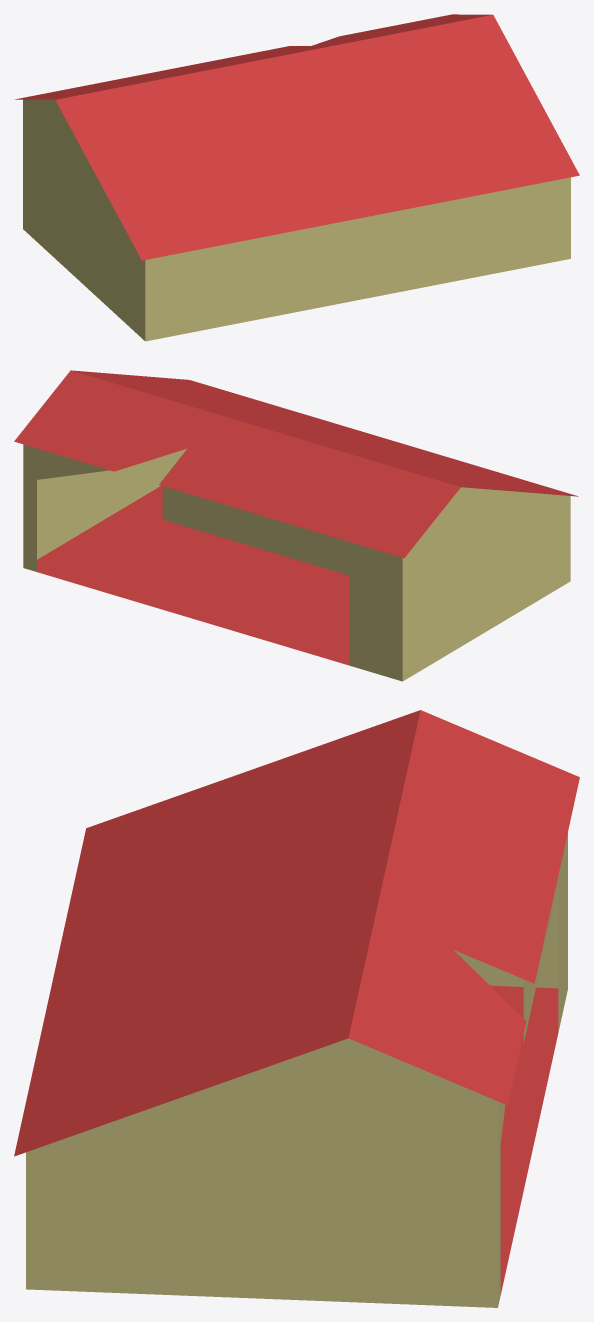
The picture shows the model from 3 angles, top to bottom: view 1: azimuth 30°, elevation 25°; view 2: azimuth 150°, elevation 25°; view 3: azimuth 270°, elevation 25°; orthographic projection. The views are drawn at different scales.
Size of the model in its own units: 37.66 by 25.9 by 13.55.
